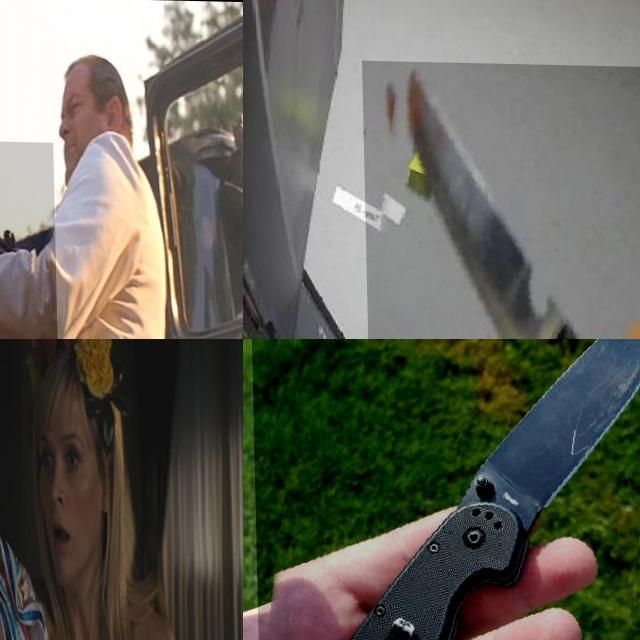-: (250, 339, 640, 640), (360, 59, 640, 339)
gun-knife-thesis - v11 Yolov5 augmented: (0, 137, 99, 339), (0, 425, 46, 640)
